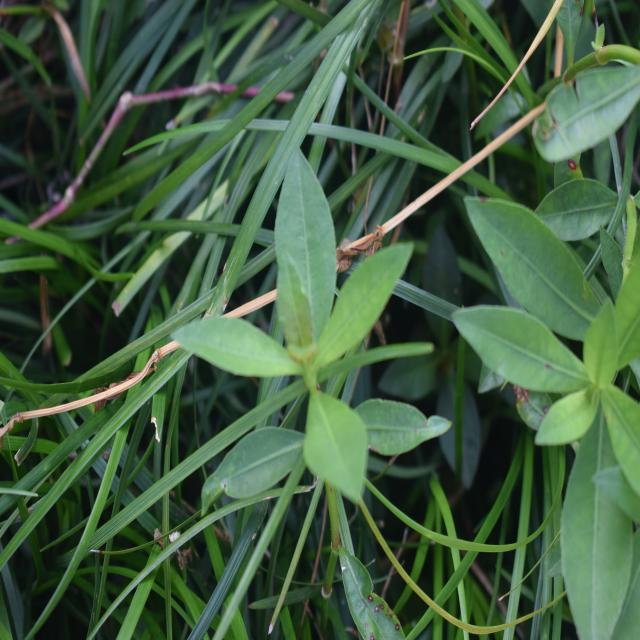Alligatorweed: (184, 163, 393, 507), (468, 192, 640, 522)
